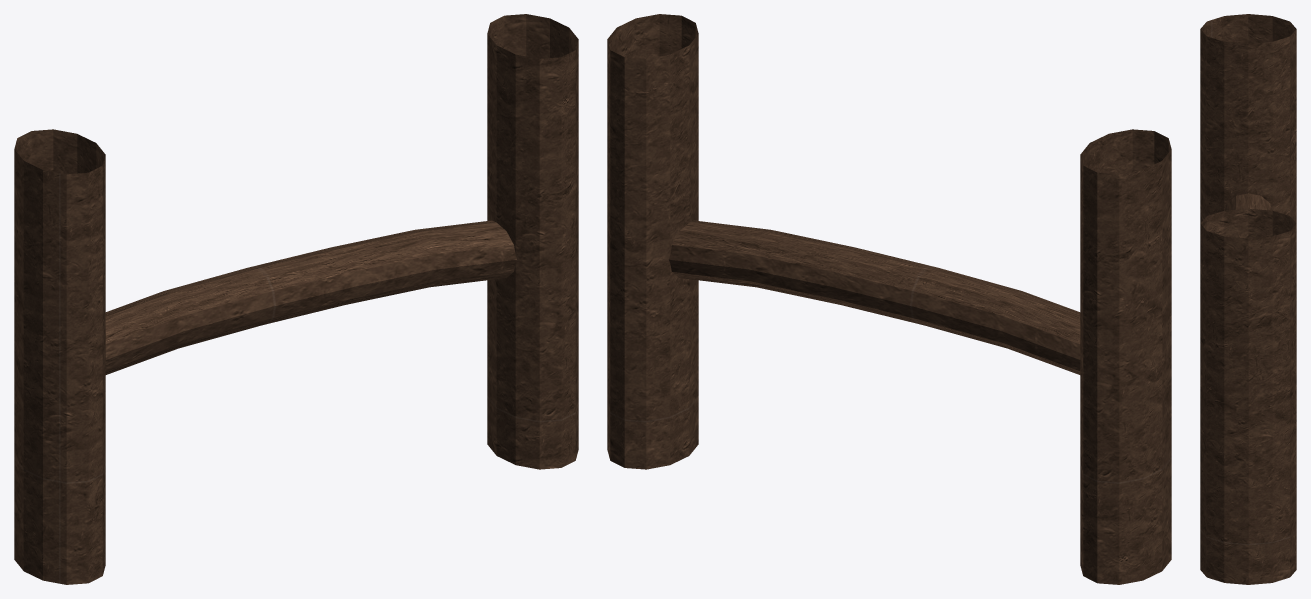
File: Ladder_1m.fbx
3 renders of one model, left to right at view 1: azimuth 30°, elevation 25°; view 2: azimuth 150°, elevation 25°; view 3: azimuth 270°, elevation 25°, orthographic. The views are drawn at different scales.
Visible parts, largest first — view 1: Ladder_1m; view 2: Ladder_1m; view 3: Ladder_1m.
Boxes of the visible parts, box(x1,y1,x2,y2) form: Ladder_1m: box(14, 14, 578, 584); Ladder_1m: box(607, 14, 1171, 584); Ladder_1m: box(1200, 14, 1296, 584).
Size of the model in its own units: 139 by 100 by 25.14.
Materials: 1 (1 with a texture image).
